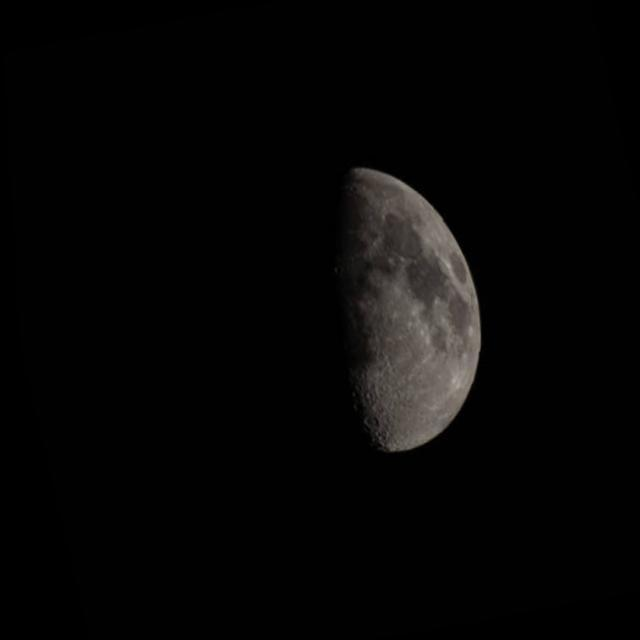moon: (218, 147, 510, 474)
